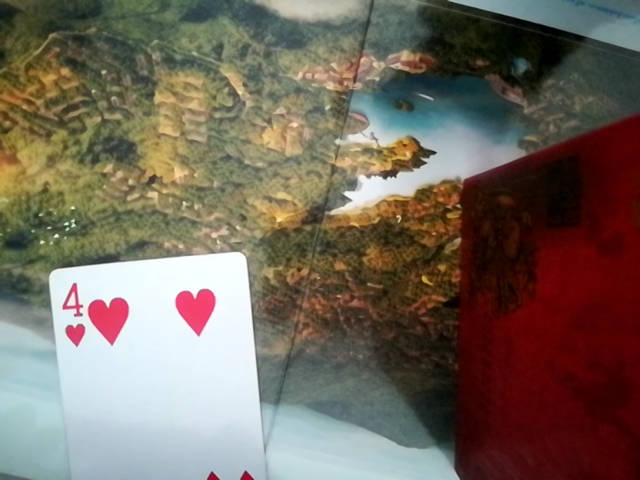hx 4: (45, 248, 256, 478)
